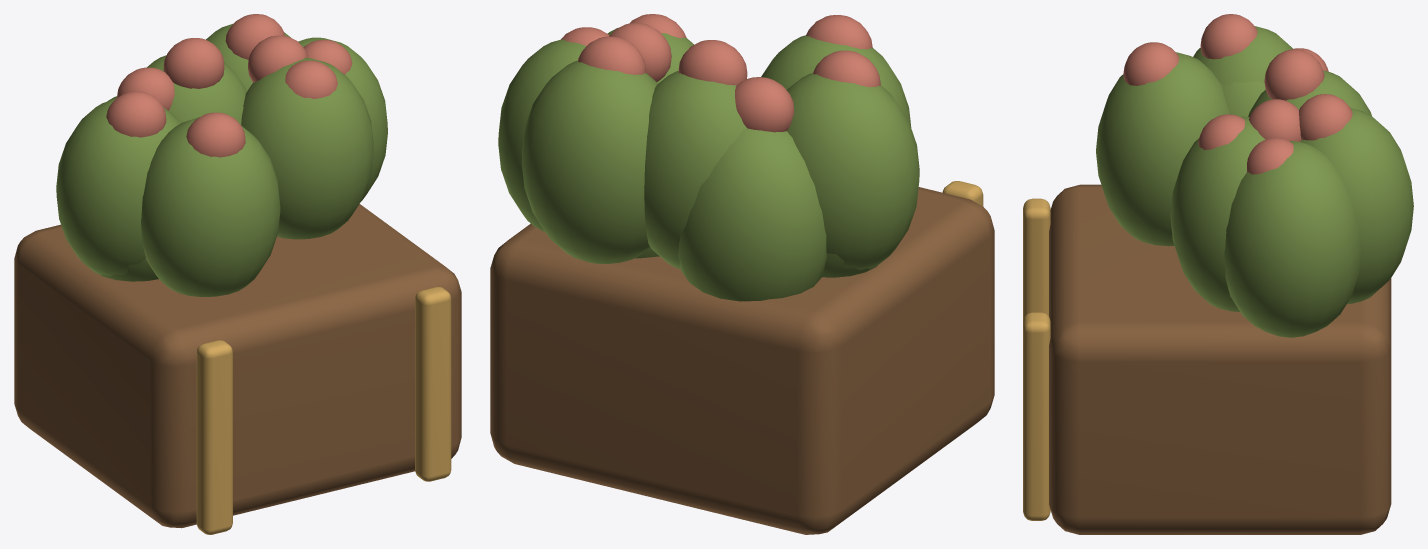
The model's file is planter.glb.
3 views of the same model, side by side, from view 1: azimuth 30°, elevation 25°; view 2: azimuth 150°, elevation 25°; view 3: azimuth 270°, elevation 25° (orthographic). The views are drawn at different scales.
Visible parts, largest first — view 1: Planter_box, Foliage, Blossom, Planter_corner; view 2: Planter_box, Foliage, Blossom, Planter_corner; view 3: Planter_box, Foliage, Blossom, Planter_corner.
Boxes of the visible parts, left/top/right/bottom form: Planter_box: left=14, top=204, right=461, bottom=528; Foliage: left=56, top=23, right=387, bottom=296; Blossom: left=106, top=14, right=352, bottom=157; Planter_corner: left=196, top=287, right=451, bottom=534; Planter_box: left=490, top=187, right=994, bottom=534; Foliage: left=498, top=28, right=919, bottom=301; Blossom: left=561, top=14, right=880, bottom=132; Planter_corner: left=942, top=181, right=983, bottom=206; Planter_box: left=1049, top=184, right=1391, bottom=534; Foliage: left=1096, top=26, right=1413, bottom=337; Blossom: left=1123, top=14, right=1352, bottom=174; Planter_corner: left=1023, top=198, right=1050, bottom=520.
Size of the model in its own units: 0.6789 by 0.7368 by 0.6397.
